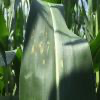Corn rust leaf: (21, 0, 98, 99)
